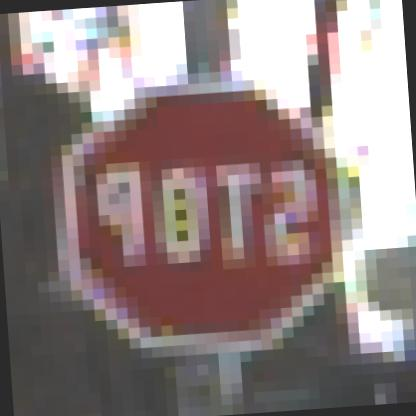stop: (35, 72, 377, 364)
